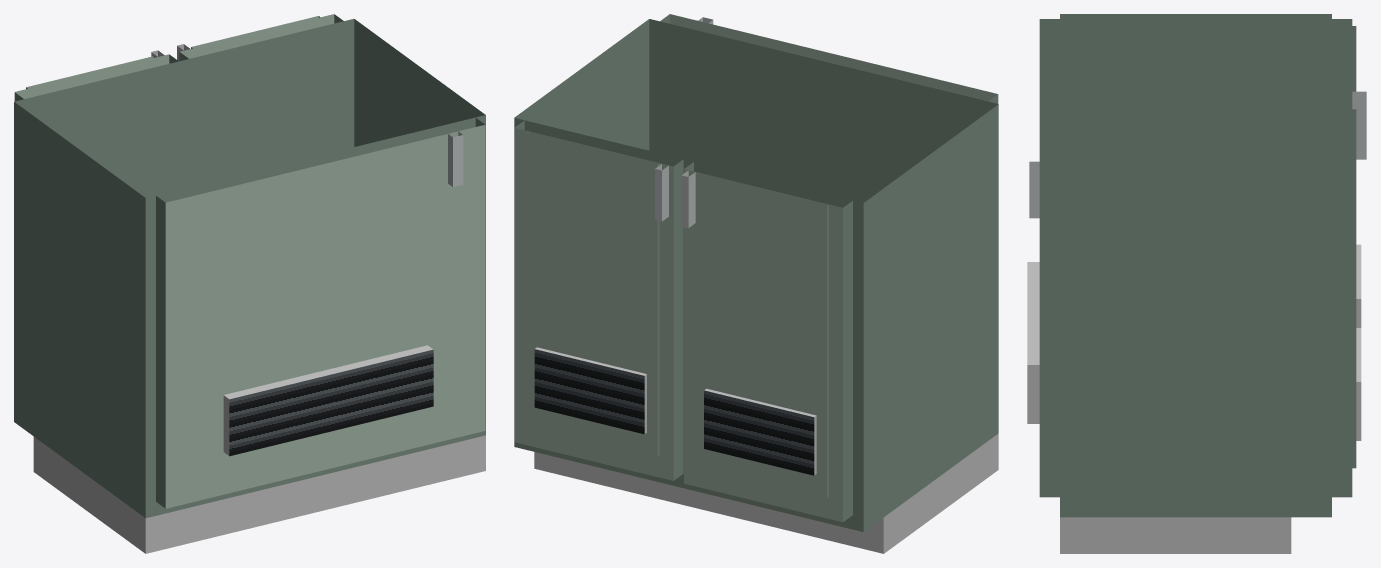
The model's file is cabinet_lower.obj.
The picture shows the model from 3 angles, left to right: view 1: azimuth 30°, elevation 25°; view 2: azimuth 150°, elevation 25°; view 3: azimuth 270°, elevation 25°; orthographic projection. The views are drawn at different scales.
Parts seen in each view (by area): view 1: cabinet_lower; view 2: cabinet_lower; view 3: cabinet_lower.
Boxes of the visible parts, x1=… form: cabinet_lower: x1=14, y1=14, x2=485, y2=553; cabinet_lower: x1=514, y1=14, x2=998, y2=553; cabinet_lower: x1=1027, y1=14, x2=1366, y2=553.
Bounding box in the file's own units: 1 × 1 × 0.835.
